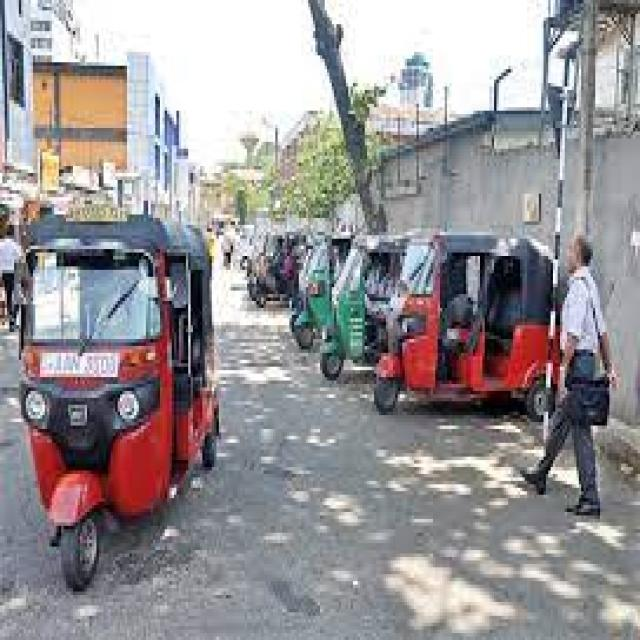person: (520, 235, 614, 515), (0, 235, 19, 304)
three wheeler: (21, 218, 216, 592), (374, 232, 553, 415), (320, 235, 402, 381), (289, 235, 348, 349)
